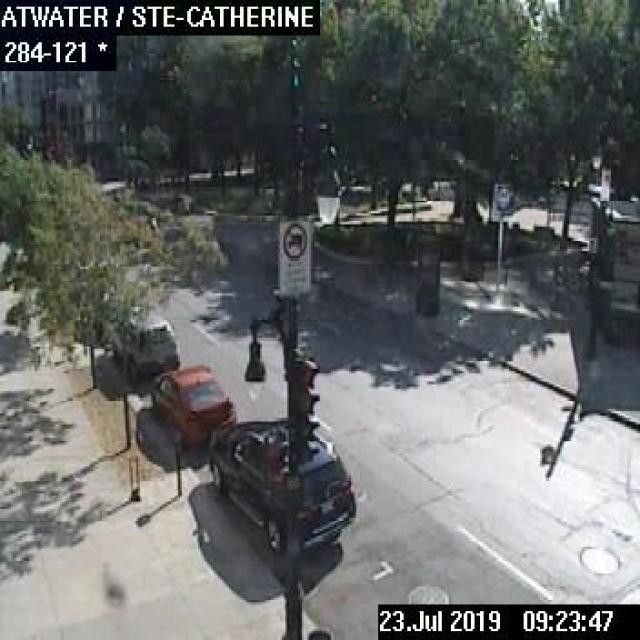vehicle: (208, 418, 354, 555), (150, 362, 235, 445), (112, 308, 179, 381)
